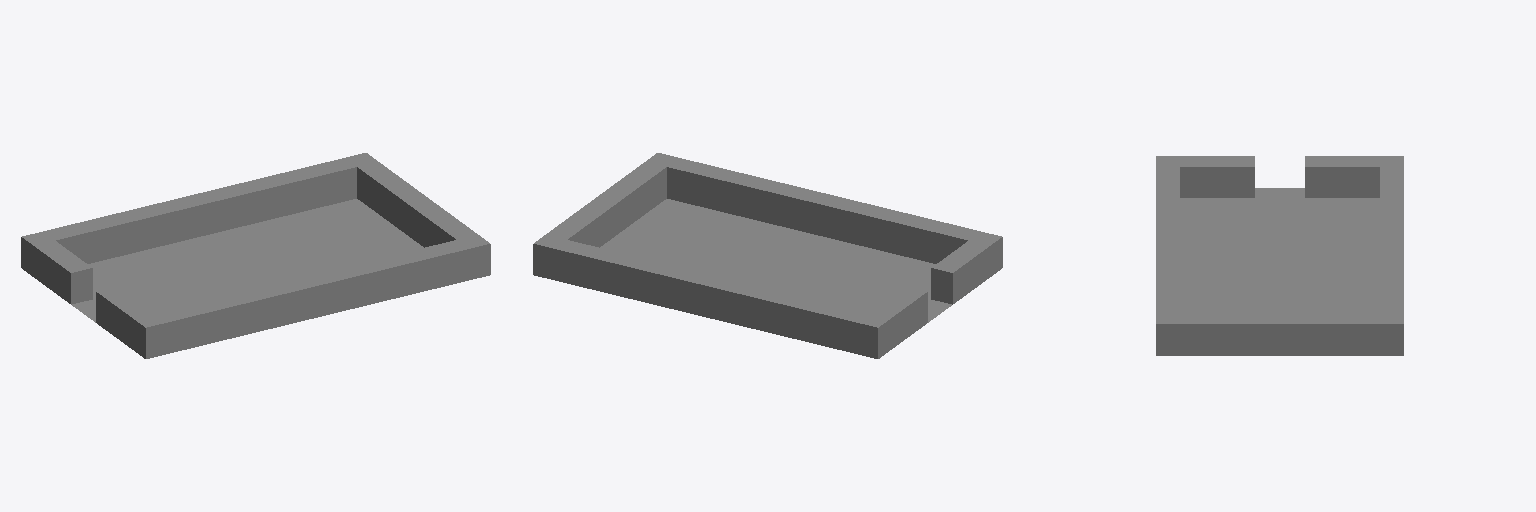
Rendered from Room18.obj.
3 renders of one model, left to right at view 1: azimuth 30°, elevation 25°; view 2: azimuth 150°, elevation 25°; view 3: azimuth 270°, elevation 25°, orthographic.
Visible parts, largest first — view 1: room_1x10, collision; view 2: room_1x10, collision; view 3: room_1x10, collision.
Part boxes in pixels (bbox=[...]): room_1x10: bbox=[21, 153, 490, 358]; collision: bbox=[21, 153, 490, 358]; room_1x10: bbox=[533, 153, 1002, 358]; collision: bbox=[533, 153, 1002, 358]; room_1x10: bbox=[1156, 156, 1403, 355]; collision: bbox=[1156, 156, 1403, 355].
Bounding box in the file's own units: 80 × 7 × 50.